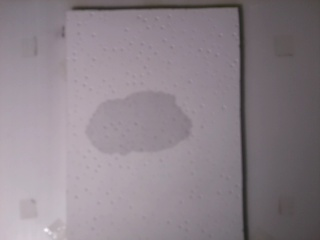Water_detected: (102, 102, 185, 154)
